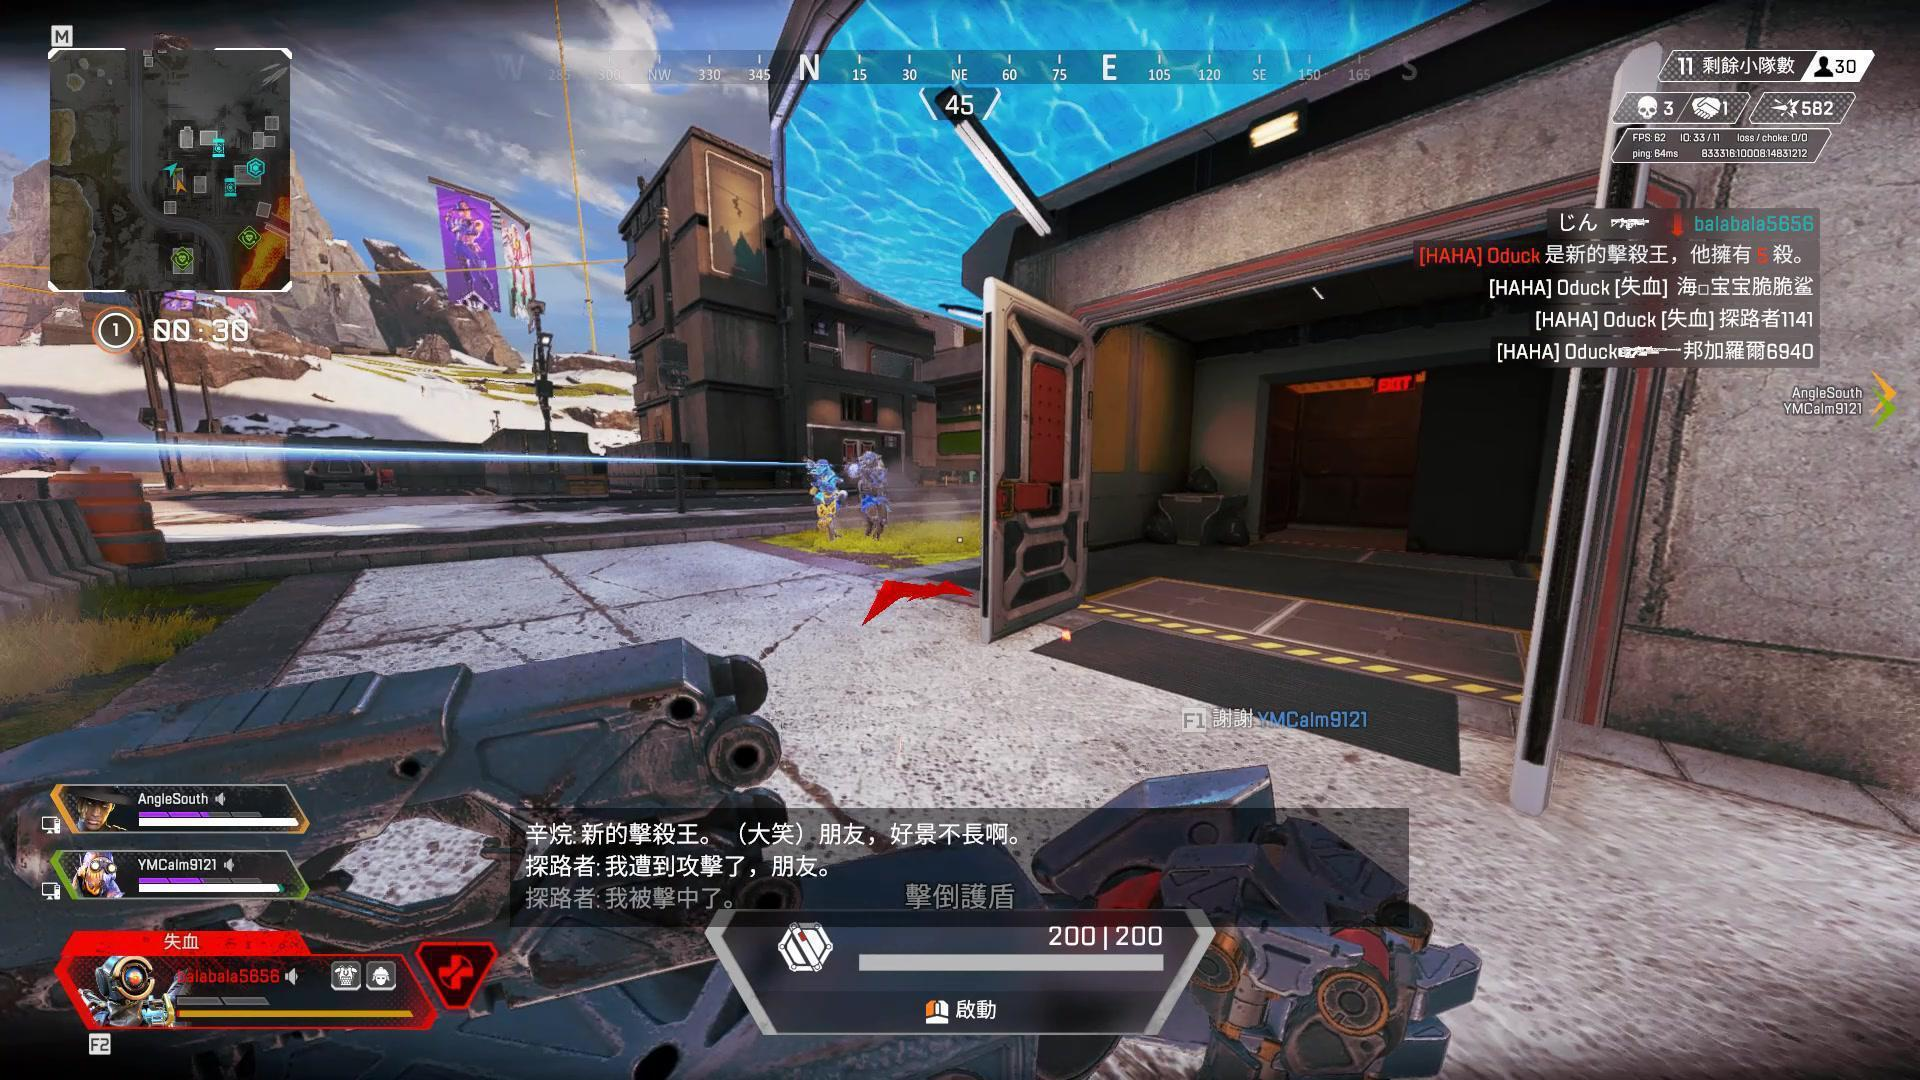avatar: (849, 450, 891, 541), (805, 458, 841, 544)
